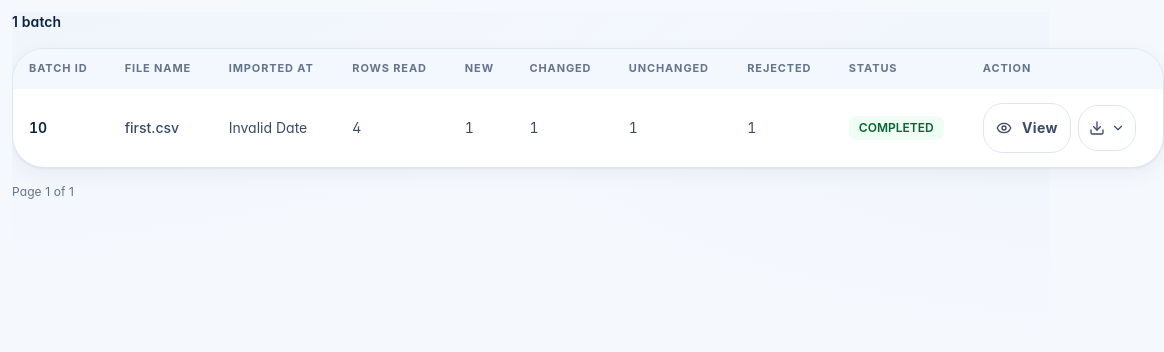
Test: ImportHistory › shows a busy state, prevents duplicate downloads, and offers retry after failure
The image size is (1164, 352).
Later steps or results of the test are not shown.
Click the button named "CSV download options for batch 10" at (1108,128), box [1078, 105, 1136, 151]
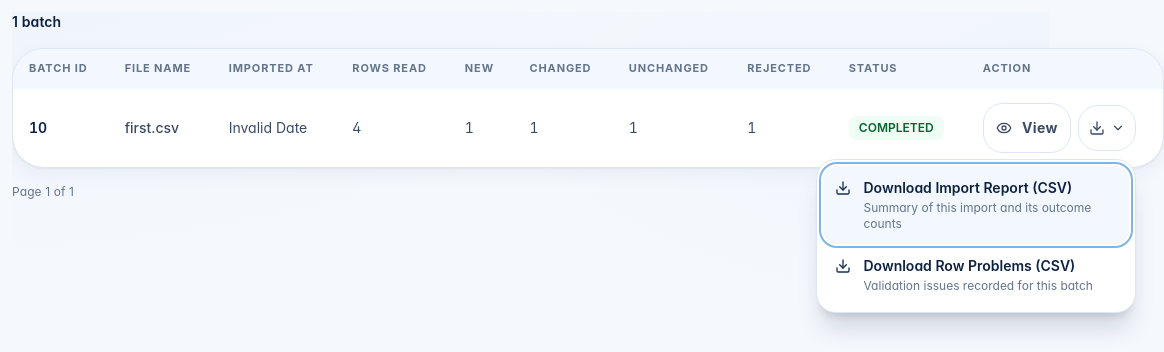
Click the menu item "Download Import Report (CSV)" at (976,205), box [824, 166, 1130, 244]
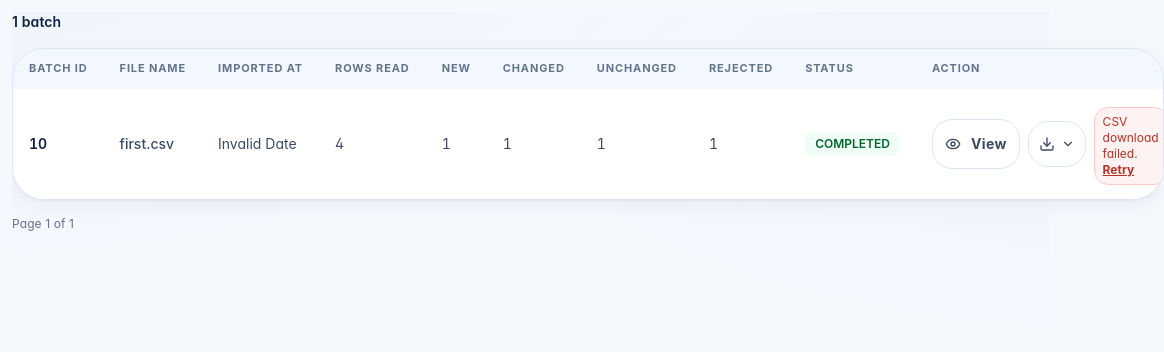
Expected: the message shows "CSV download failed.", [1103, 114, 1159, 161]
